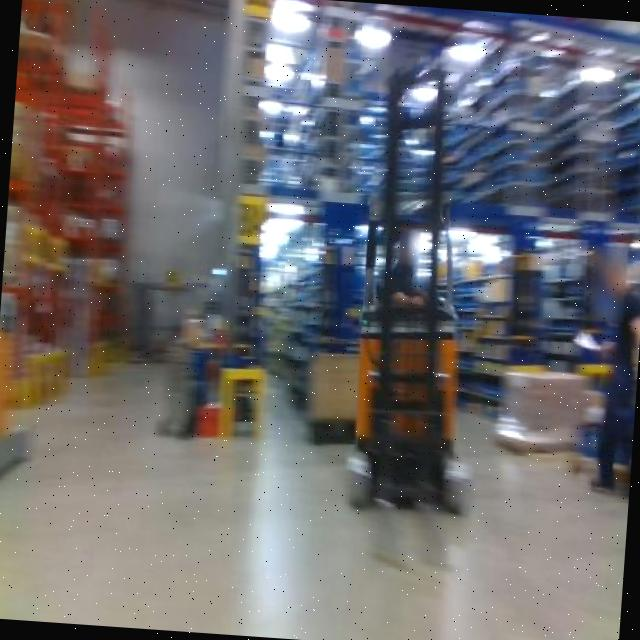pallet: (489, 421, 585, 461)
